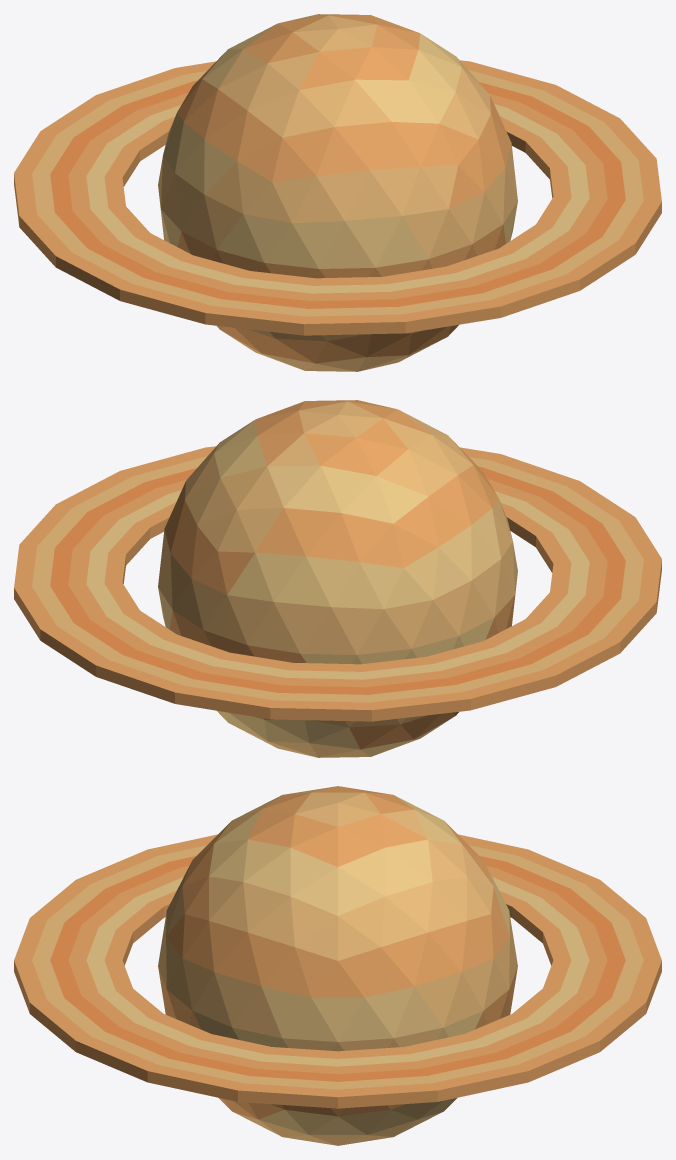
The model's file is Saturn_better.fbx.
3 views of the same model, one above another, from view 1: azimuth 30°, elevation 25°; view 2: azimuth 150°, elevation 25°; view 3: azimuth 270°, elevation 25° (orthographic).
Parts seen in each view (by area): view 1: Cylinder; view 2: Cylinder; view 3: Cylinder.
Boxes of the visible parts, <box> form: Cylinder: <box>14,14,661,371</box>; Cylinder: <box>14,400,661,757</box>; Cylinder: <box>14,786,661,1145</box>.
Size of the model in its own units: 360 by 200 by 360.
